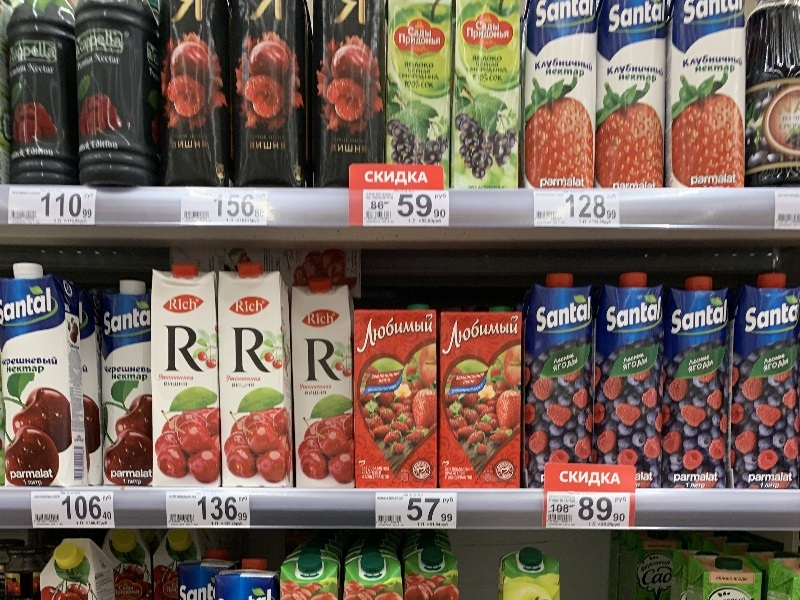juice: (1, 258, 97, 497), (213, 259, 301, 497), (145, 263, 234, 490), (347, 298, 447, 497), (284, 274, 369, 496), (438, 305, 529, 493), (521, 267, 605, 468), (661, 274, 737, 494), (731, 274, 800, 494), (598, 269, 668, 478)
